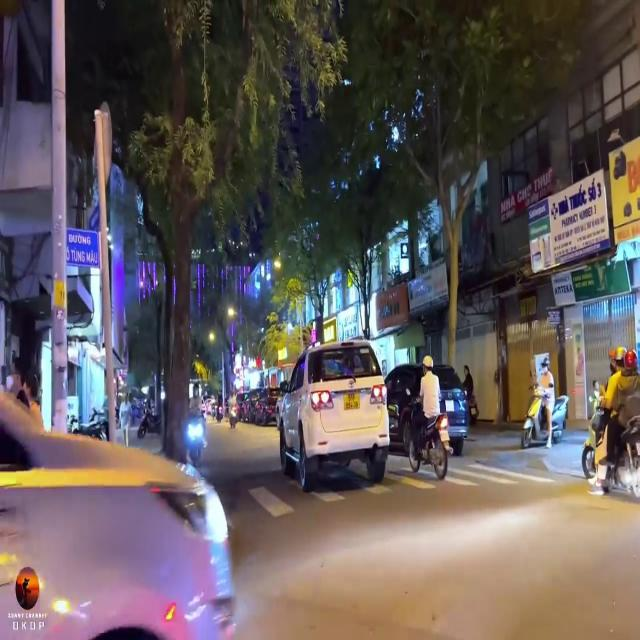bien_vang: (342, 389, 361, 413)
